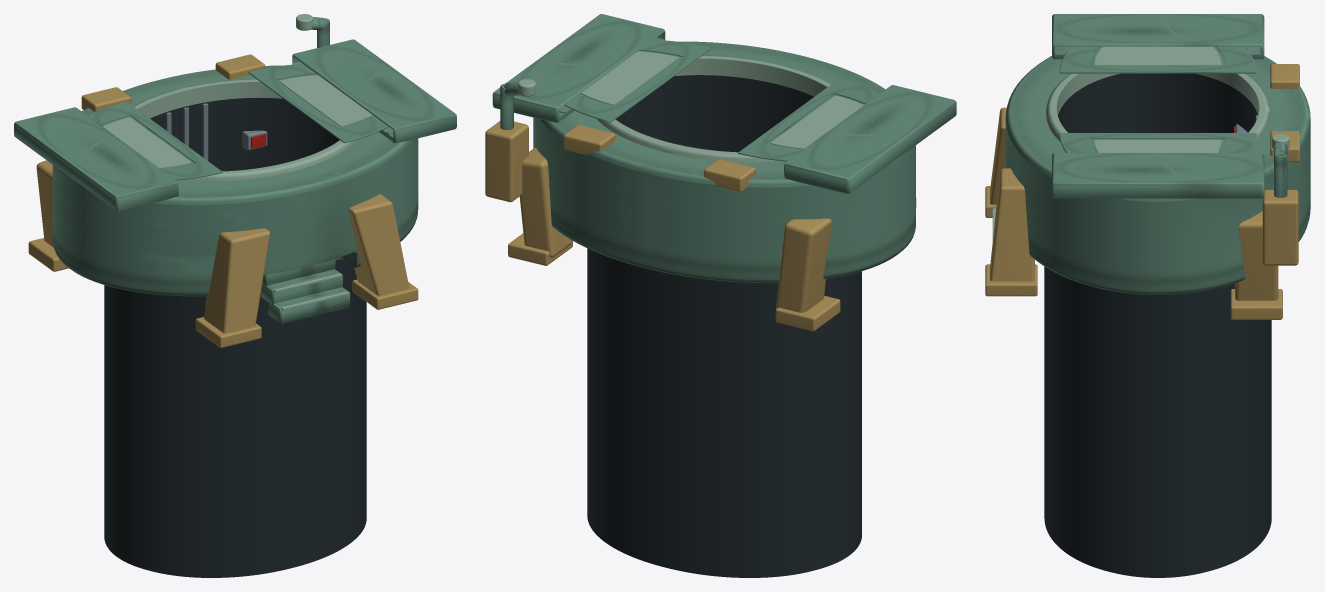
The model's file is descriptor-10.glb.
The picture shows the model from 3 angles, left to right: view 1: azimuth 30°, elevation 25°; view 2: azimuth 150°, elevation 25°; view 3: azimuth 270°, elevation 25°; orthographic projection. The views are drawn at different scales.
Parts seen in each view (by area): view 1: RI10 shaft wall below ground, RI10 fixed oval body, RI10 enclosed side cover cassette, RI10 enclosed side cover cassette.001, RI10 front splayed brass buttress, RI10 front splayed brass buttress.001, RI10 green aperture coaming, RI10 right cover shell inner segment, RI10 left cover shell inner segment, RI10 recessed green cover field inner segment.001, RI10 recessed green cover field inner segment, RI10 front access step 0 (+8 smaller); view 2: RI10 shaft wall below ground, RI10 fixed oval body, RI10 enclosed side cover cassette, RI10 enclosed side cover cassette.001, RI10 green aperture coaming, RI10 rear brass load-bearing buttress, RI10 rear brass load-bearing buttress.001, RI10 right equipment mast foundation, RI10 right cover shell inner segment, RI10 left cover shell inner segment, RI10 recessed green cover field inner segment.001, RI10 recessed green cover field inner segment (+4 smaller); view 3: RI10 shaft wall below ground, RI10 fixed oval body, RI10 enclosed side cover cassette.001, RI10 enclosed side cover cassette, RI10 front splayed brass buttress.001, RI10 left cover shell inner segment, RI10 green aperture coaming, RI10 right equipment mast foundation, RI10 rear brass load-bearing buttress.001, RI10 recessed green cover field inner segment, RI10 right cover shell inner segment, RI10 recessed green cover field inner segment.001 (+6 smaller).
Part boxes in pixels (<box>): RI10 shaft wall below ground: <box>104,97,366,577</box>; RI10 fixed oval body: <box>52,65,418,296</box>; RI10 enclosed side cover cassette: <box>14,107,178,211</box>; RI10 enclosed side cover cassette.001: <box>292,39,456,142</box>; RI10 front splayed brass buttress: <box>204,228,270,333</box>; RI10 front splayed brass buttress.001: <box>348,194,409,295</box>; RI10 green aperture coaming: <box>133,79,356,181</box>; RI10 right cover shell inner segment: <box>248,64,388,143</box>; RI10 left cover shell inner segment: <box>87,101,222,180</box>; RI10 recessed green cover field inner segment.001: <box>279,75,372,126</box>; RI10 recessed green cover field inner segment: <box>102,117,191,168</box>; RI10 front access step 0: <box>268,287,350,323</box>; RI10 shaft wall below ground: <box>587,75,861,577</box>; RI10 fixed oval body: <box>533,41,915,282</box>; RI10 enclosed side cover cassette: <box>784,85,956,193</box>; RI10 enclosed side cover cassette.001: <box>492,14,665,122</box>; RI10 green aperture coaming: <box>597,55,831,162</box>; RI10 rear brass load-bearing buttress: <box>776,218,831,312</box>; RI10 rear brass load-bearing buttress.001: <box>519,147,572,257</box>; RI10 right equipment mast foundation: <box>485,121,528,202</box>; RI10 right cover shell inner segment: <box>564,39,711,122</box>; RI10 left cover shell inner segment: <box>738,79,879,161</box>; RI10 recessed green cover field inner segment.001: <box>581,51,679,105</box>; RI10 recessed green cover field inner segment: <box>770,95,863,149</box>; RI10 shaft wall below ground: <box>1044,73,1271,577</box>; RI10 fixed oval body: <box>1005,56,1310,294</box>; RI10 enclosed side cover cassette.001: <box>1052,153,1264,198</box>; RI10 enclosed side cover cassette: <box>1052,14,1264,59</box>; RI10 front splayed brass buttress.001: <box>990,168,1034,281</box>; RI10 left cover shell inner segment: <box>1059,46,1256,73</box>; RI10 green aperture coaming: <box>1046,73,1270,141</box>; RI10 right equipment mast foundation: <box>1262,189,1298,265</box>; RI10 rear brass load-bearing buttress.001: <box>1235,211,1278,300</box>; RI10 recessed green cover field inner segment: <box>1094,46,1221,65</box>; RI10 right cover shell inner segment: <box>1059,133,1256,152</box>; RI10 recessed green cover field inner segment.001: <box>1094,139,1221,152</box>.
Size of the model in its own units: 2.7 by 3.31 by 2.17.
7 materials, 2 textured.
